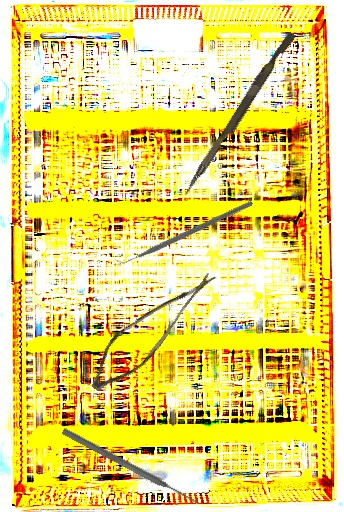Chopper: (111, 154, 254, 307)
Micro Scissor: (82, 247, 218, 410)
Pusher: (182, 28, 296, 201), (60, 426, 201, 508)
